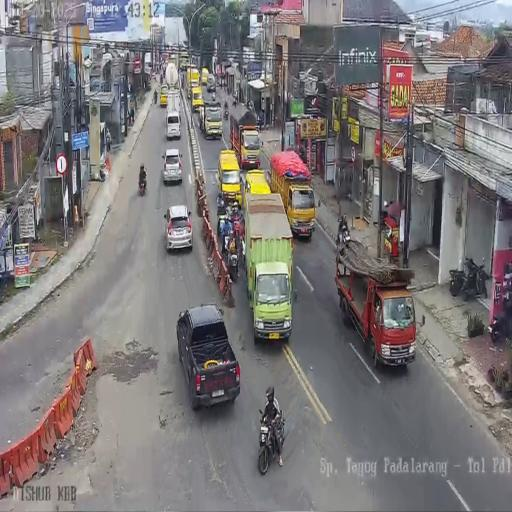car: (175, 304, 241, 409), (243, 169, 271, 220), (164, 203, 193, 251), (162, 148, 183, 183), (166, 108, 181, 140), (206, 74, 216, 92), (160, 85, 167, 106), (201, 68, 209, 84)
motorcycle: (257, 406, 285, 476), (449, 256, 489, 300), (225, 230, 240, 282), (489, 308, 505, 342), (231, 204, 244, 242), (138, 174, 147, 196), (224, 100, 228, 120), (153, 88, 158, 104), (211, 90, 216, 102), (160, 73, 163, 85)
truck: (243, 193, 293, 338), (229, 108, 258, 168), (217, 148, 241, 205), (199, 100, 222, 138), (187, 66, 200, 96), (179, 53, 188, 71), (169, 55, 178, 72)
